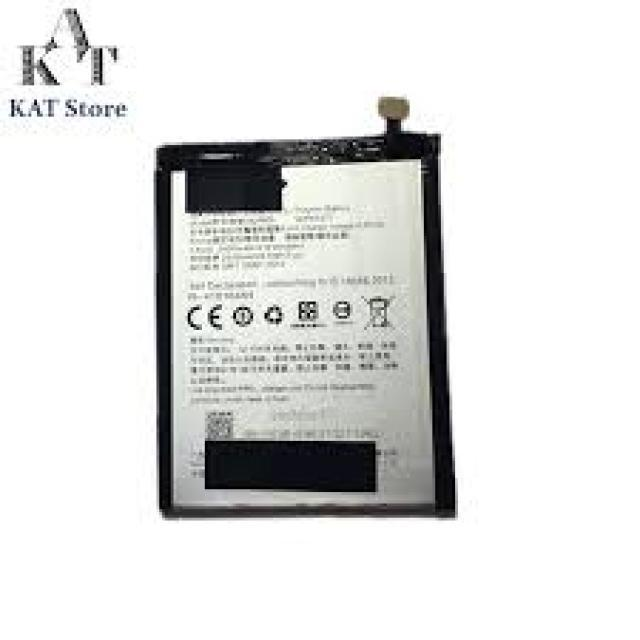battery: (156, 89, 463, 518)
